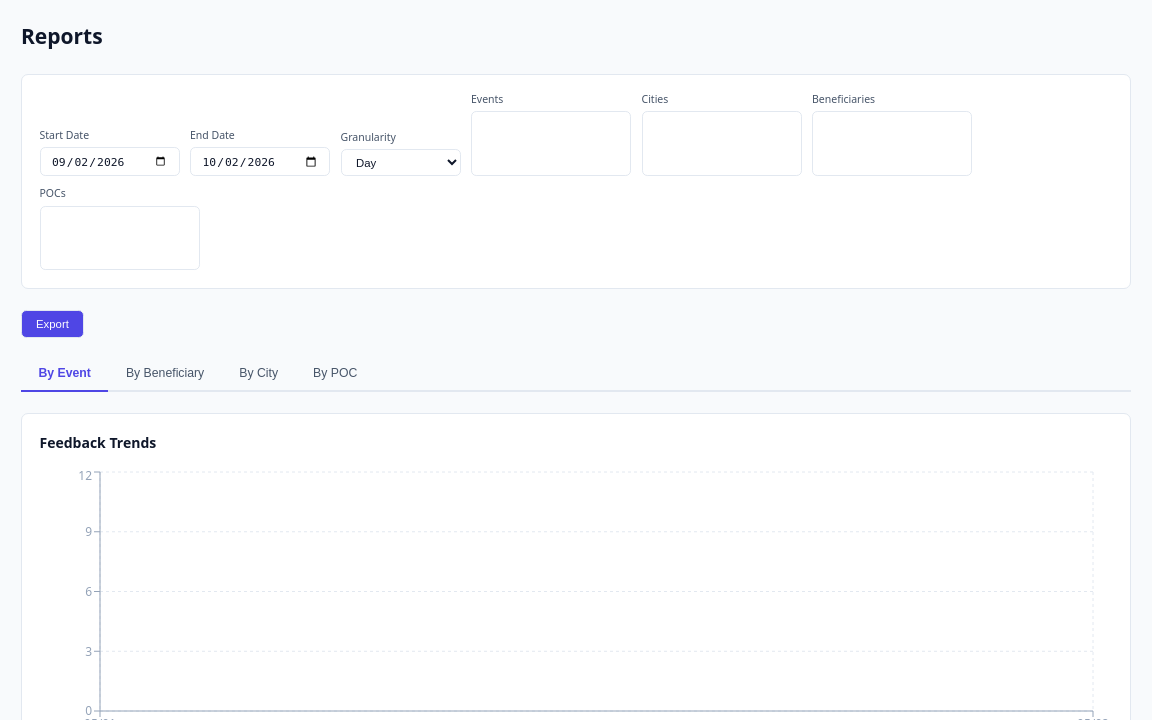
Scenario: ReportsContent › Export polling lifecycle › shows timeout state when export exceeds max duration
The image size is (1152, 720).
Expected: the heading "Feedback Trends" is shown, [40, 432, 156, 452]
Click the button "Export" at {"x": 52, "y": 324}, box [21, 310, 84, 338]
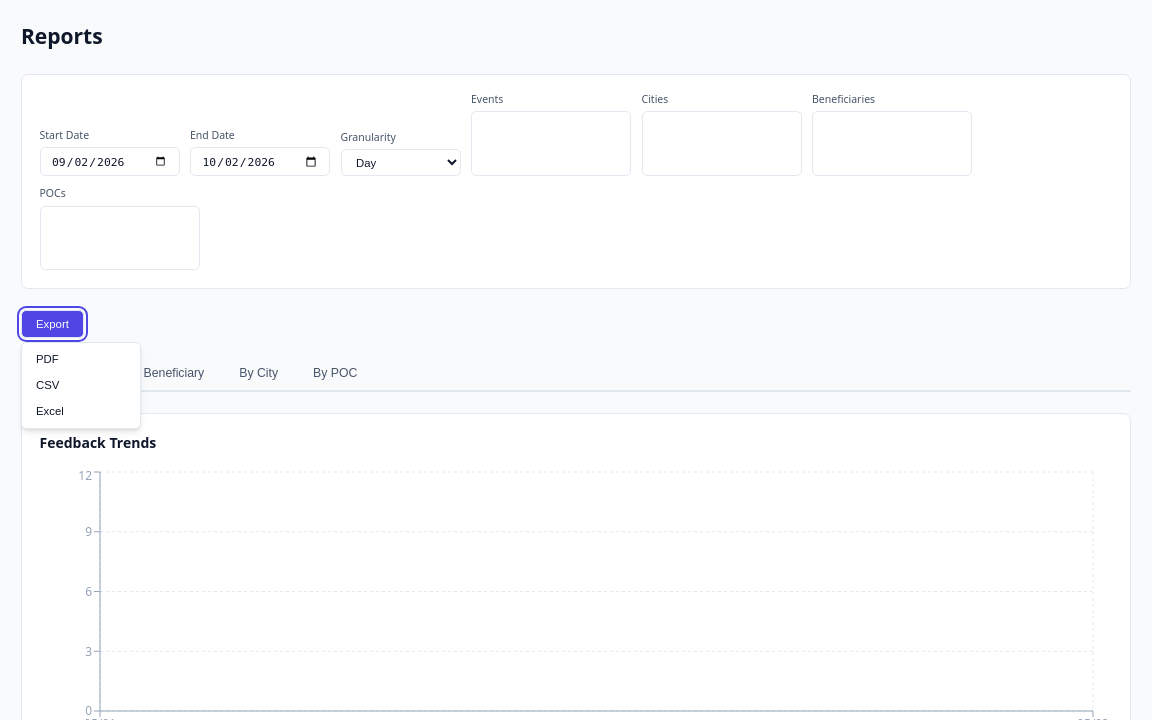
Click the menu item "Excel" at {"x": 81, "y": 411}, box [22, 398, 140, 424]
Wait 130000 ms
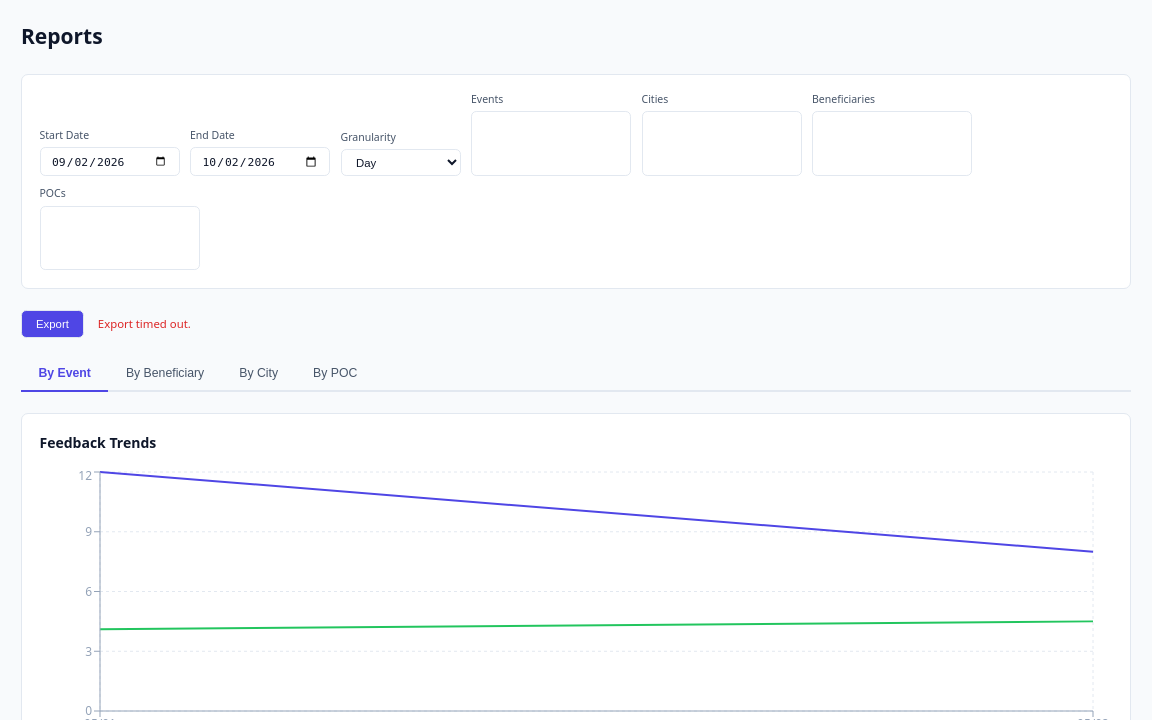
Expected: the text "Export timed out." is shown, [98, 315, 191, 332]
